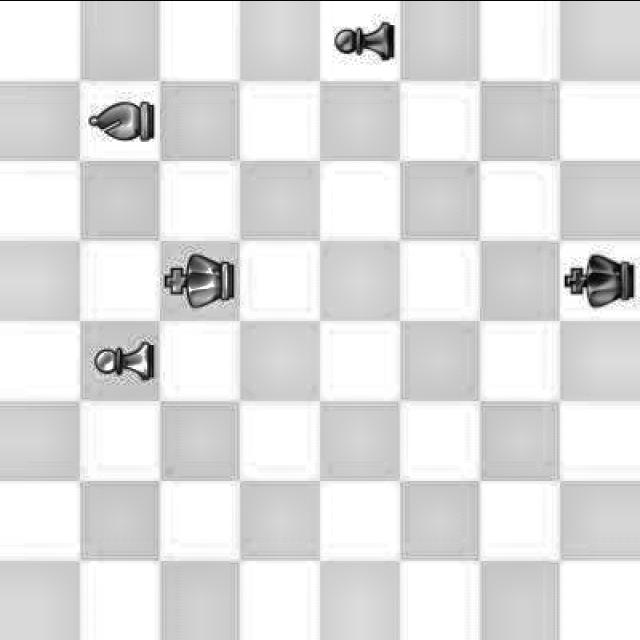black king: (559, 249, 637, 308)
black pawn: (331, 15, 396, 61)
white bishop: (84, 92, 154, 152)
white king: (162, 255, 238, 309)
white pawn: (87, 335, 158, 383)
